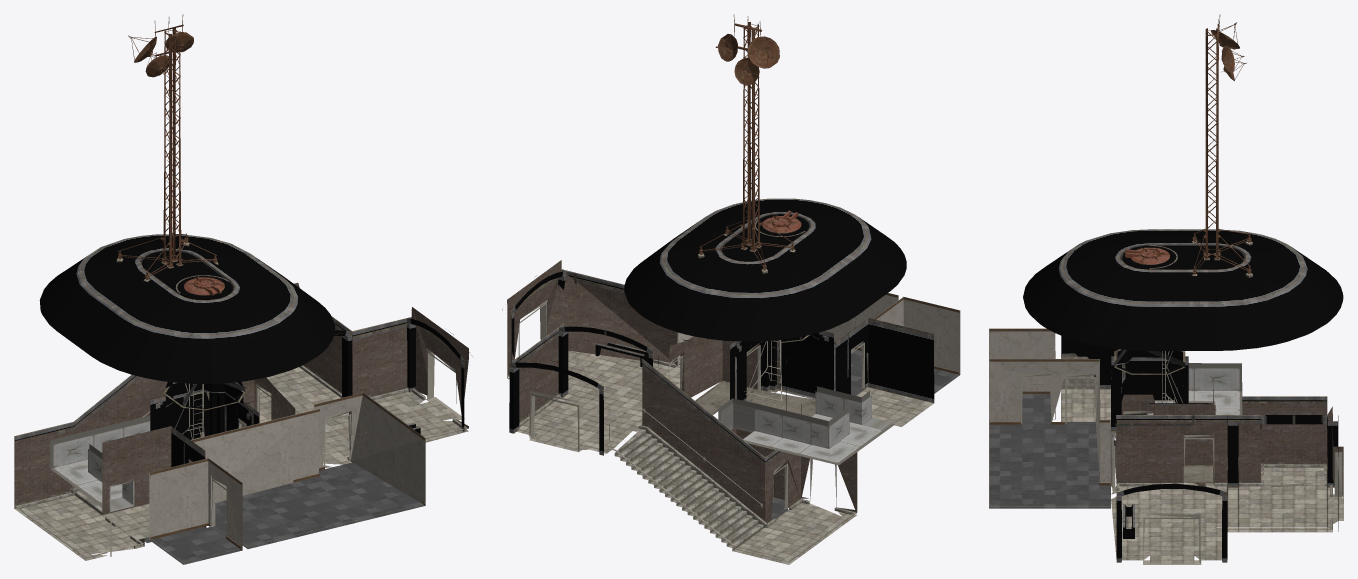
The model's file is entrance_bunker_c-map.glb.
3 views of the same model, side by side, from view 1: azimuth 30°, elevation 25°; view 2: azimuth 150°, elevation 25°; view 3: azimuth 270°, elevation 25° (orthographic). The views are drawn at different scales.
Visible parts, largest first — view 1: stairwell_top_country_b_LOD0, antena_helipad_base_LOD0, bunker_hatch; view 2: stairwell_top_country_b_LOD0, antena_helipad_base_LOD0, bunker_hatch; view 3: stairwell_top_country_b_LOD0, antena_helipad_base_LOD0, bunker_hatch.
Part boxes in pixels (bbox=[...]): stairwell_top_country_b_LOD0: bbox=[14, 234, 473, 564]; antena_helipad_base_LOD0: bbox=[116, 17, 218, 281]; bunker_hatch: bbox=[184, 276, 224, 295]; stairwell_top_country_b_LOD0: bbox=[502, 198, 960, 564]; antena_helipad_base_LOD0: bbox=[698, 17, 795, 273]; bunker_hatch: bbox=[762, 210, 801, 233]; stairwell_top_country_b_LOD0: bbox=[989, 229, 1343, 564]; antena_helipad_base_LOD0: bbox=[1191, 17, 1252, 277]; bunker_hatch: bbox=[1125, 247, 1169, 264].
Bounding box in the file's own units: 18.75 × 24.6 × 16.
Materials: 15 (14 with a texture image).
